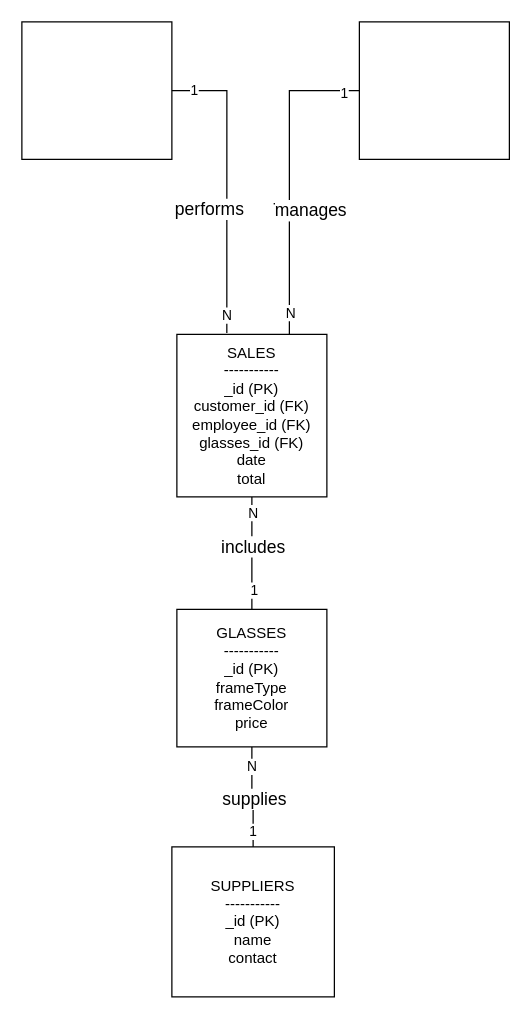
Some shapes in this 531 by 1019 pixel diagram are drawn without their labels. Each missing label, with the box of its shape:
CUSTOMERS ----------- _id (PK) name email phone: (21, 21, 172, 159)
EMPLOYEES ----------- _id (PK) name role: (358, 21, 509, 159)
